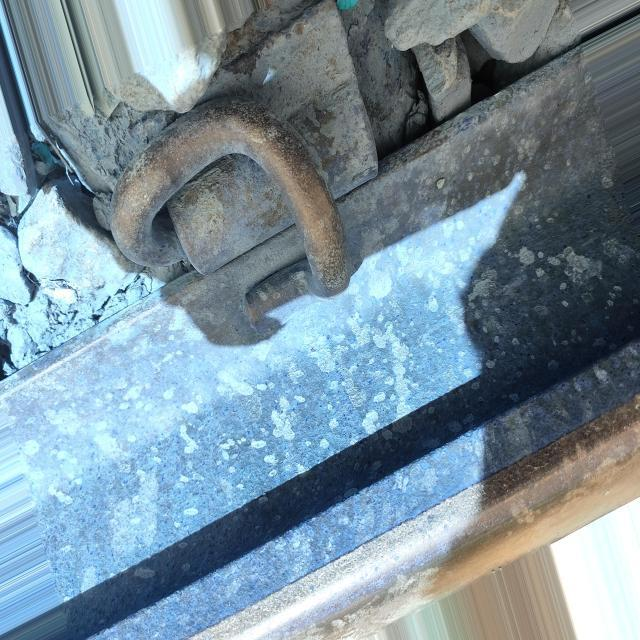Good Fasteners: (109, 0, 378, 331)
